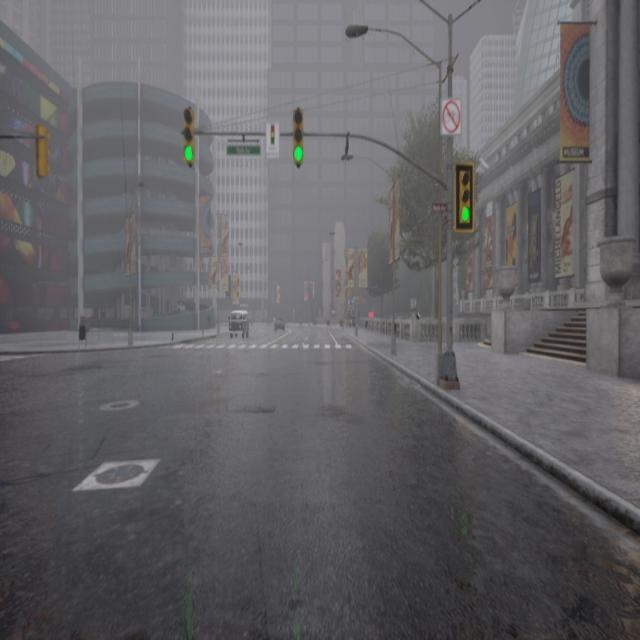bien_chi_dan: (455, 166, 475, 226), (181, 108, 198, 165), (291, 106, 304, 168), (441, 100, 462, 132), (460, 207, 470, 223), (293, 147, 302, 160), (185, 146, 192, 160)
